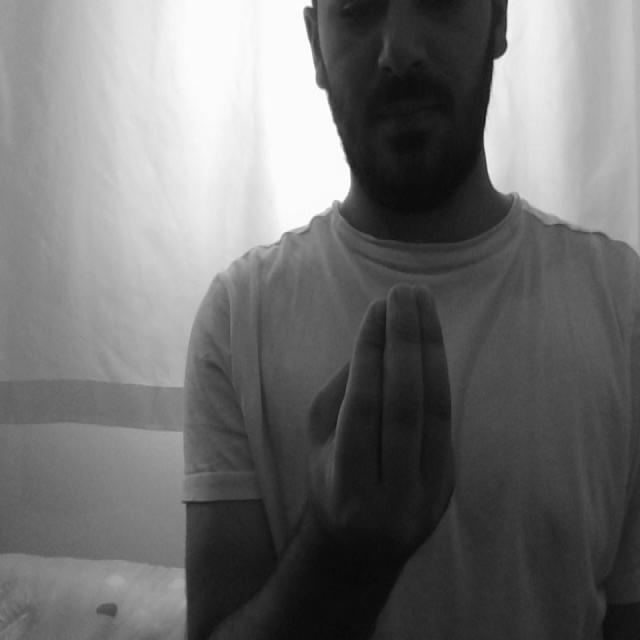iyi: (304, 255, 471, 562)
